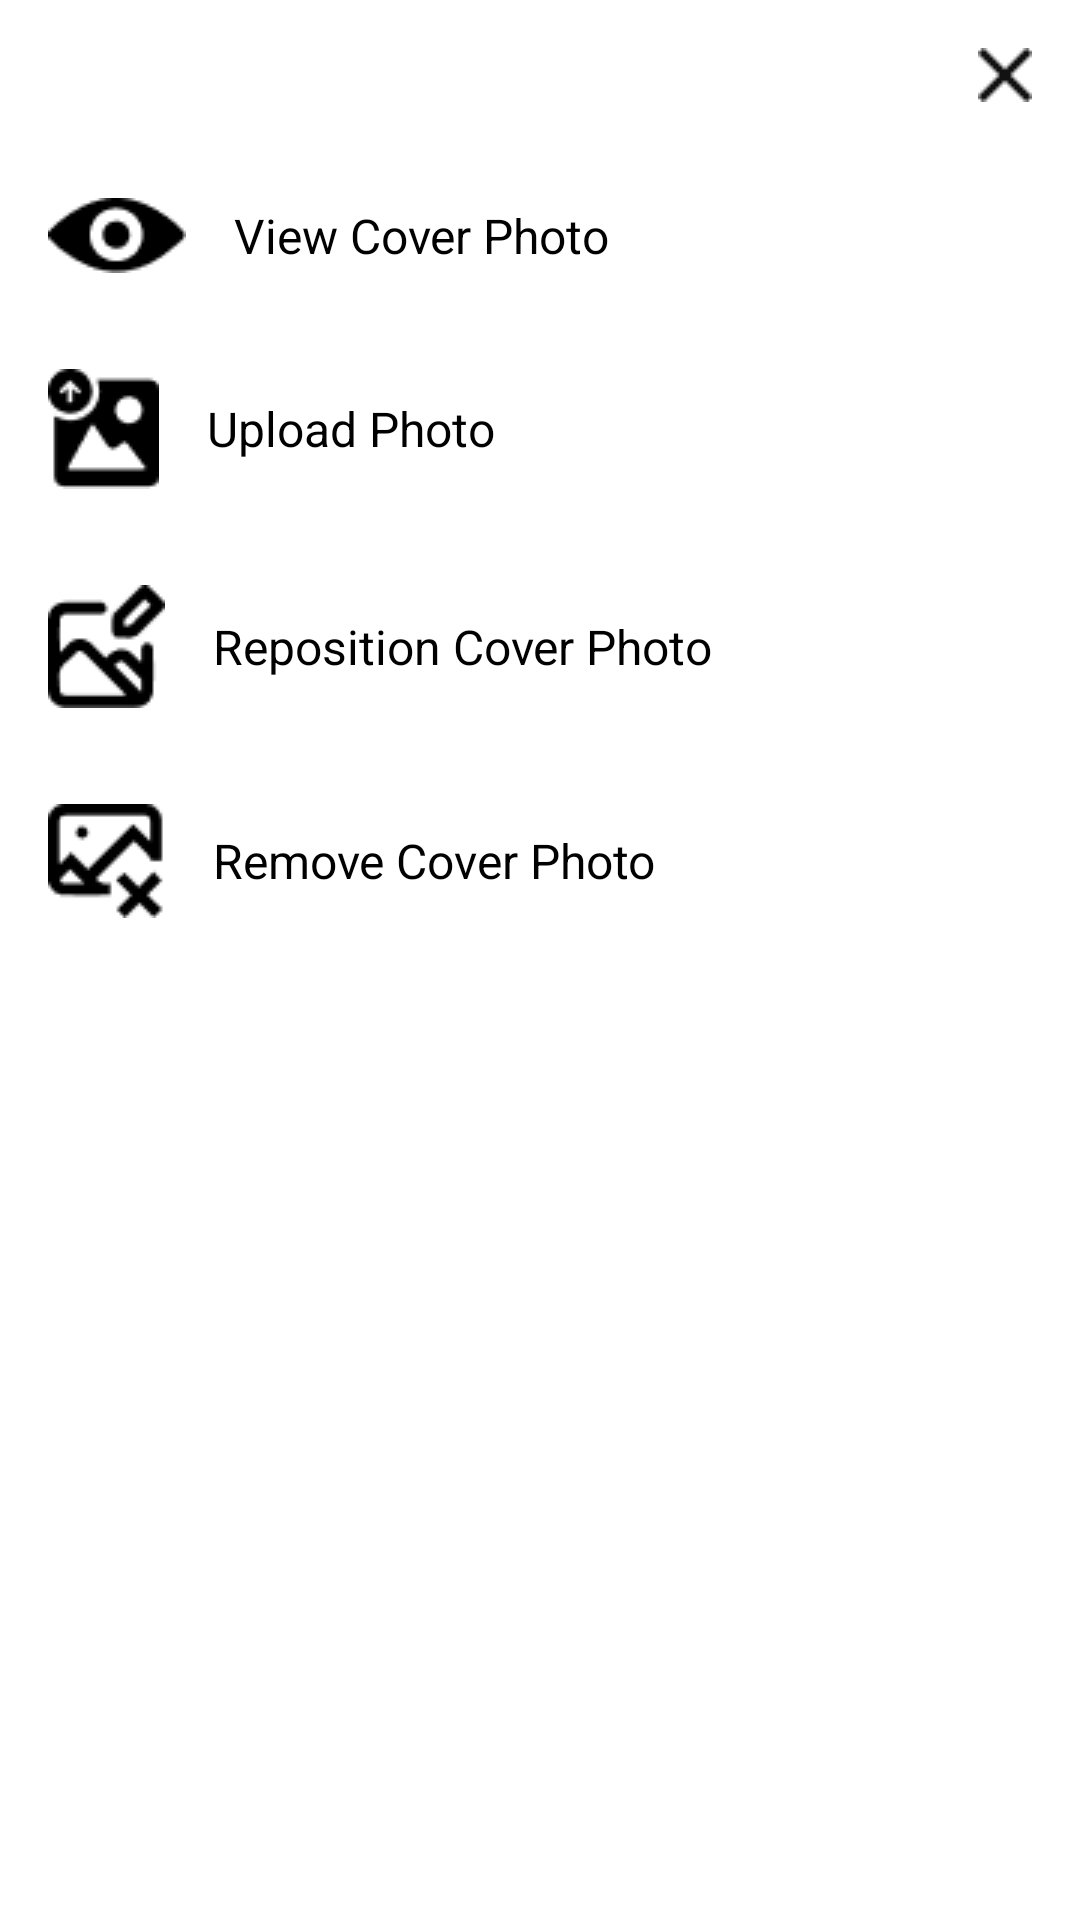

Icons on this 1080×1920 Android screen, each with the point to tap as (x=x, y=y):
close: (x=1005, y=75)
